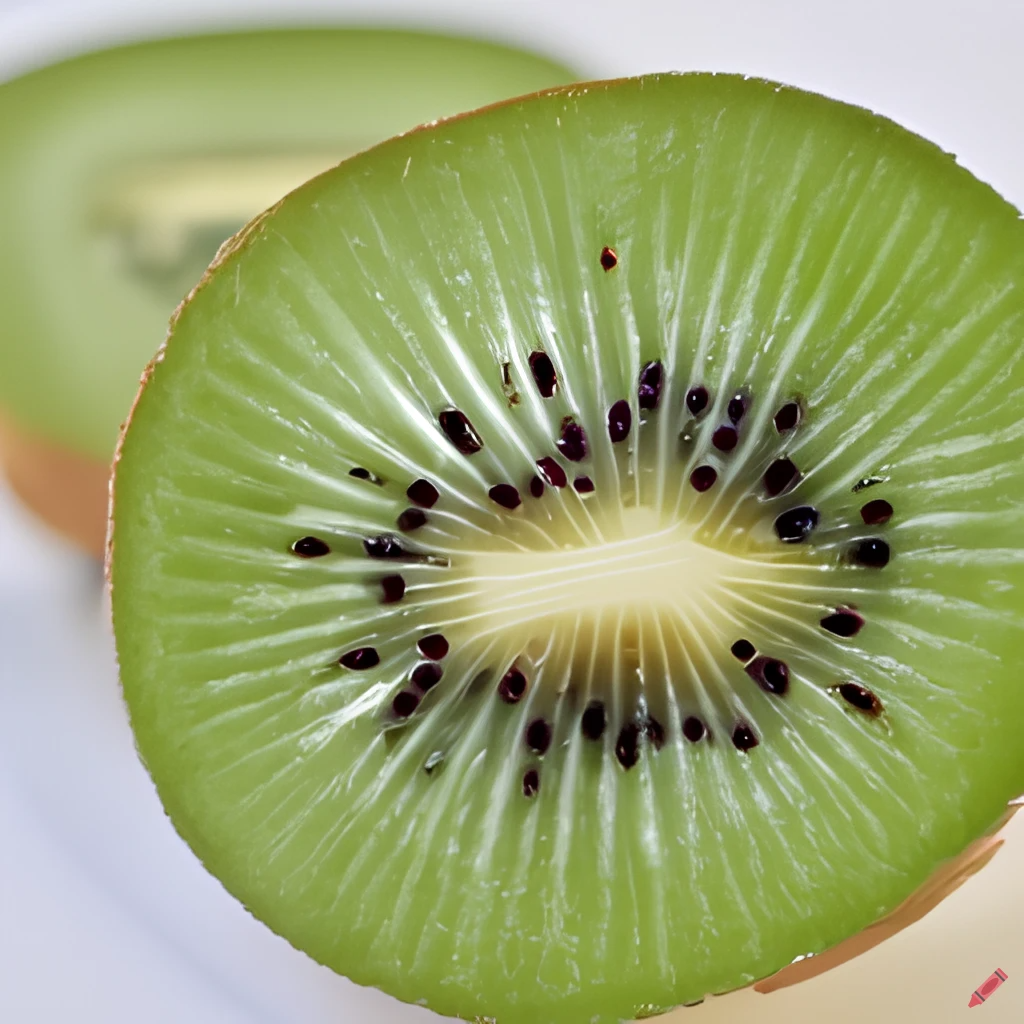Kiwi: (95, 66, 1024, 1004)
